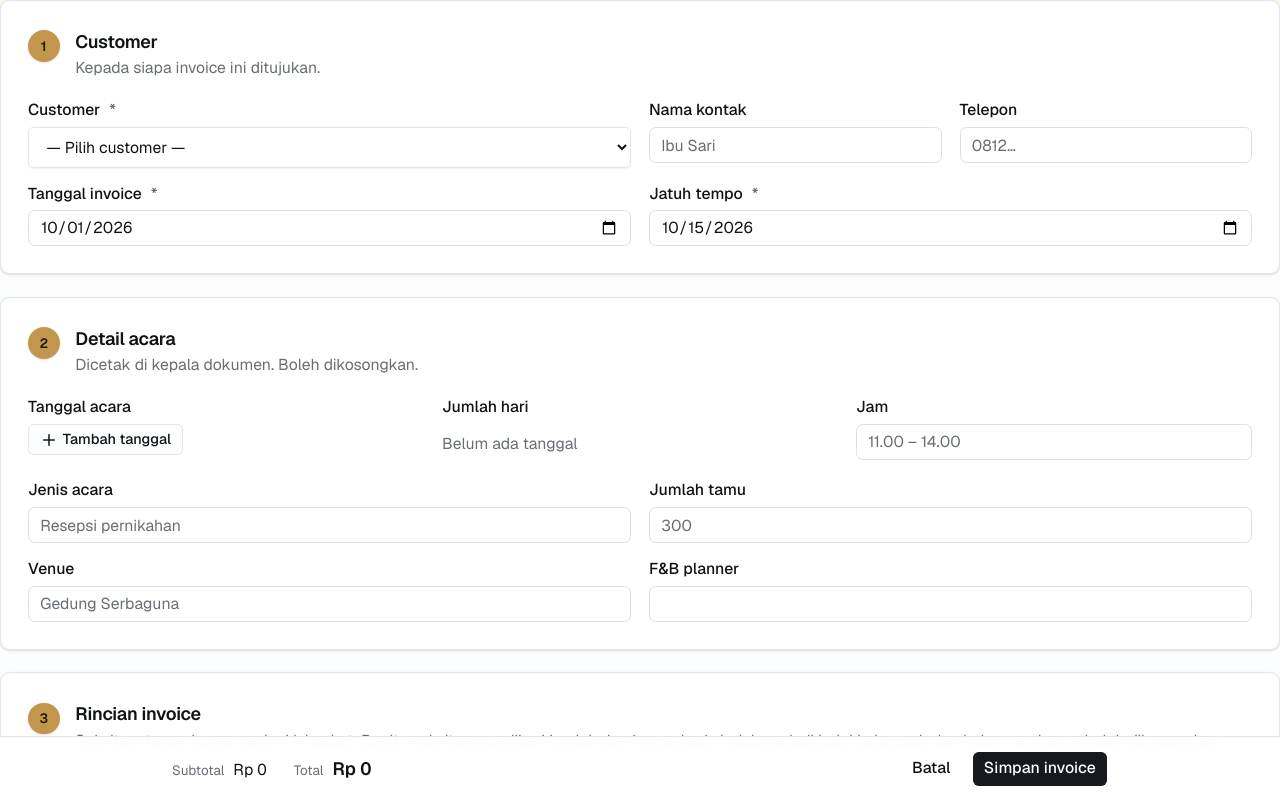
Scenario: FormDokumen — memilih customer › mengisi kontak dari customer yang dipilih
Select "House of Sekar (CUST-0001) · Ibu Yuniar" in the dropdown labelled "Customer *" at {"x": 330, "y": 147}, box [28,127,631,168]
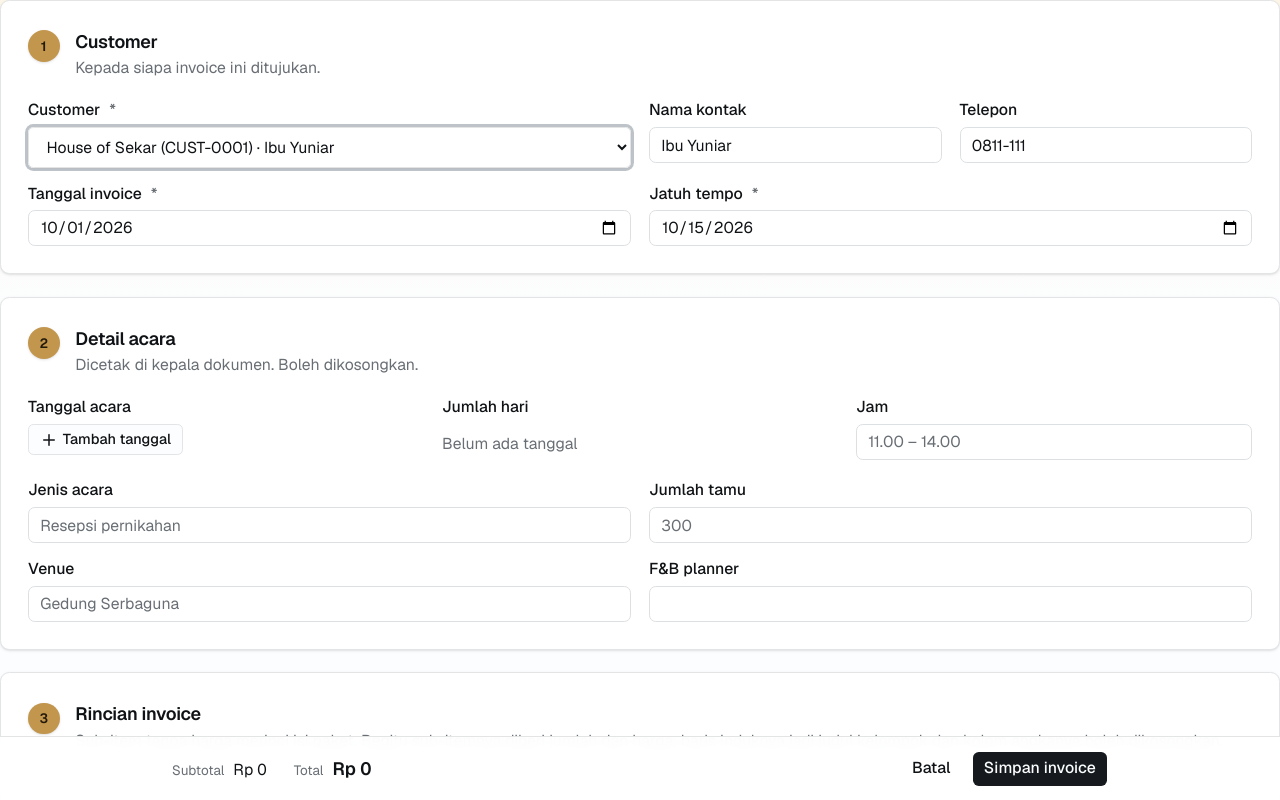
Check: the field labelled "Nama kontak" holds "Ibu Yuniar", box [649,127,942,163]
Check: the field labelled "Telepon" holds "0811-111", box [960,127,1252,163]
